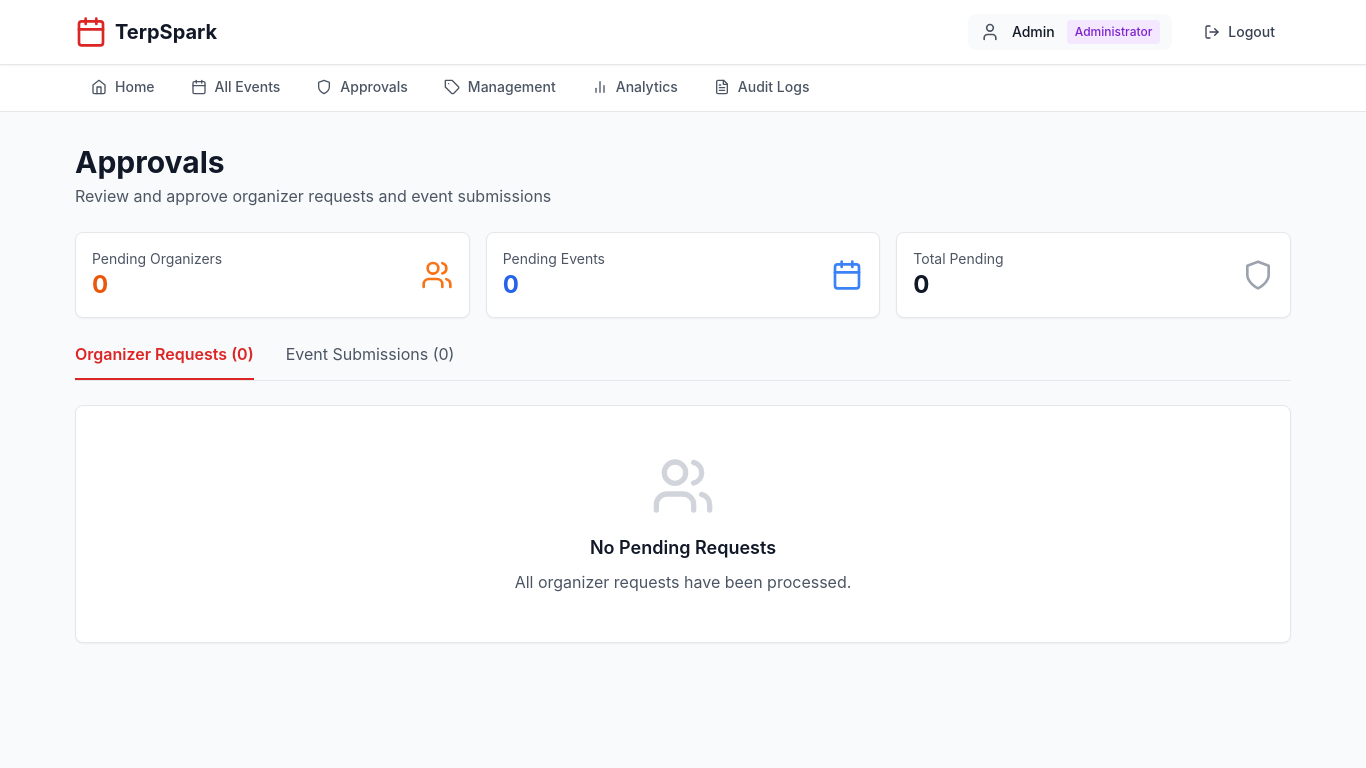
Test: ApprovalsPage › shows empty states when there are no pending requests
The width and height of the screenshot is (1366, 768).
Expected: the heading "No Pending Requests" is shown, [590,537,776,558]
Click the button "Event Submissions (0)" at {"x": 370, "y": 361}, box [286,342,454,380]
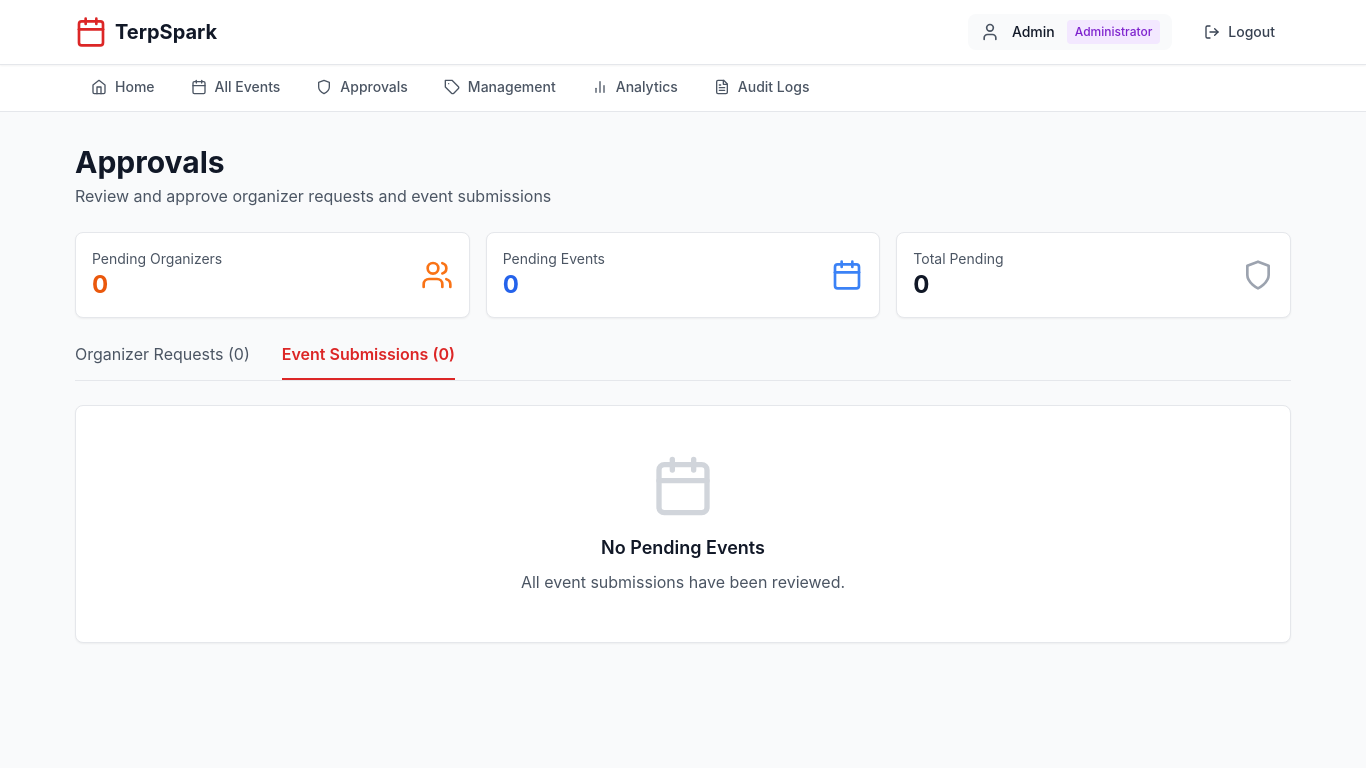
Expected: the heading "No Pending Events" is shown, [601,537,765,558]
